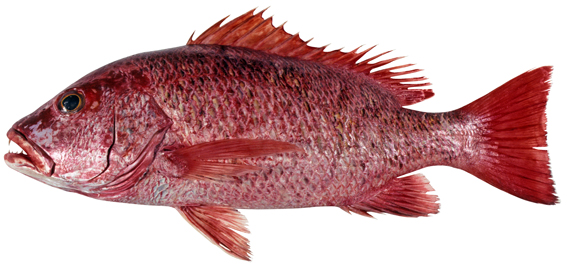fish: (3, 7, 561, 261)
